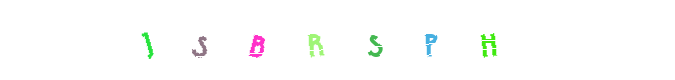B: (297, 0, 377, 80)
H: (390, 0, 470, 80)
J: (161, 0, 241, 80)
P: (314, 0, 394, 80)
R: (302, 0, 382, 80)
S: (217, 0, 297, 80), (304, 0, 384, 80)
